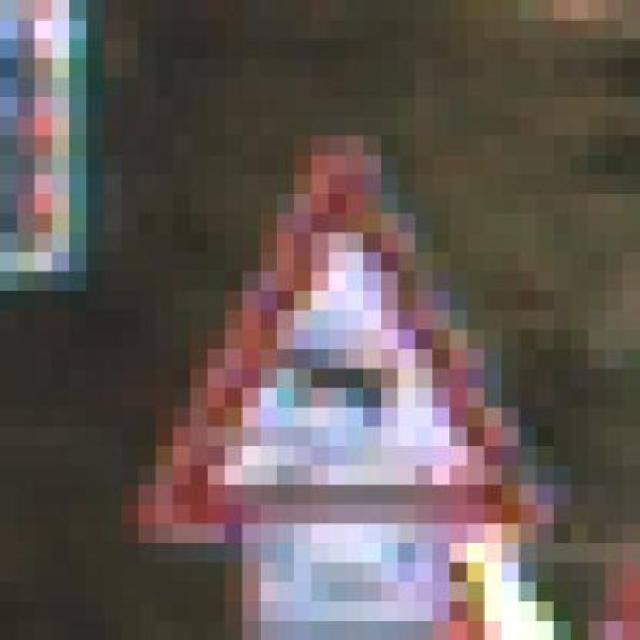Slippery Road Ahead: (103, 116, 554, 544)
